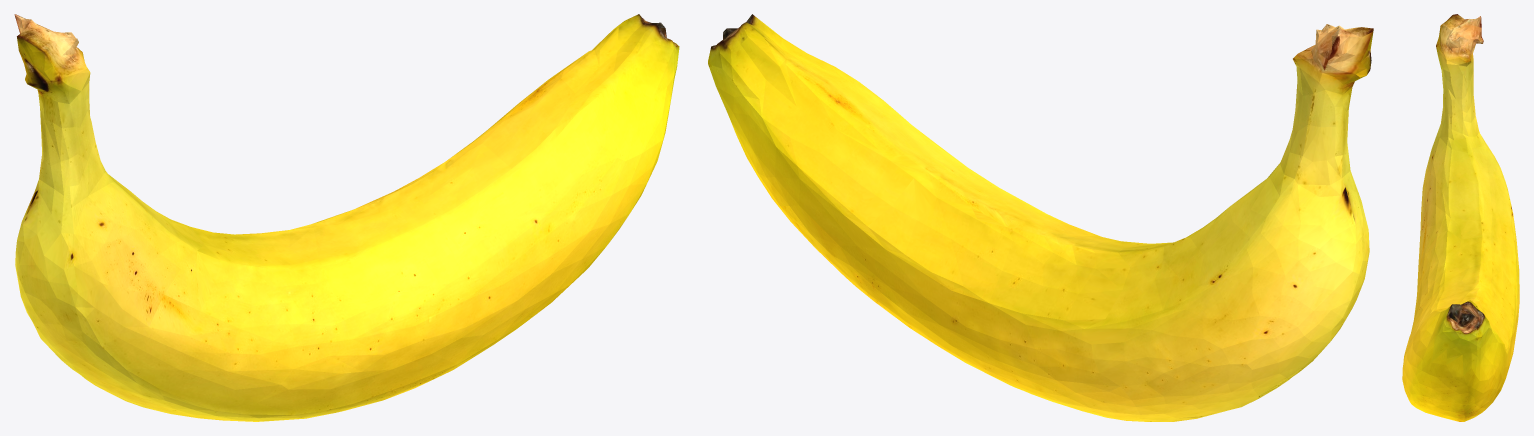
File: banana-v1-transformed.glb
3 views of the same model, side by side, from view 1: azimuth 30°, elevation 25°; view 2: azimuth 150°, elevation 25°; view 3: azimuth 270°, elevation 25° (orthographic). The views are drawn at different scales.
Visible parts, largest first — view 1: banana; view 2: banana; view 3: banana.
Part boxes in pixels (<box>): banana: <box>14,14,679,421</box>; banana: <box>708,14,1373,421</box>; banana: <box>1402,14,1519,421</box>.
Bounding box in the file's own units: 6.79 × 4.44 × 1.61.
Materials: 1 (1 with a texture image).
